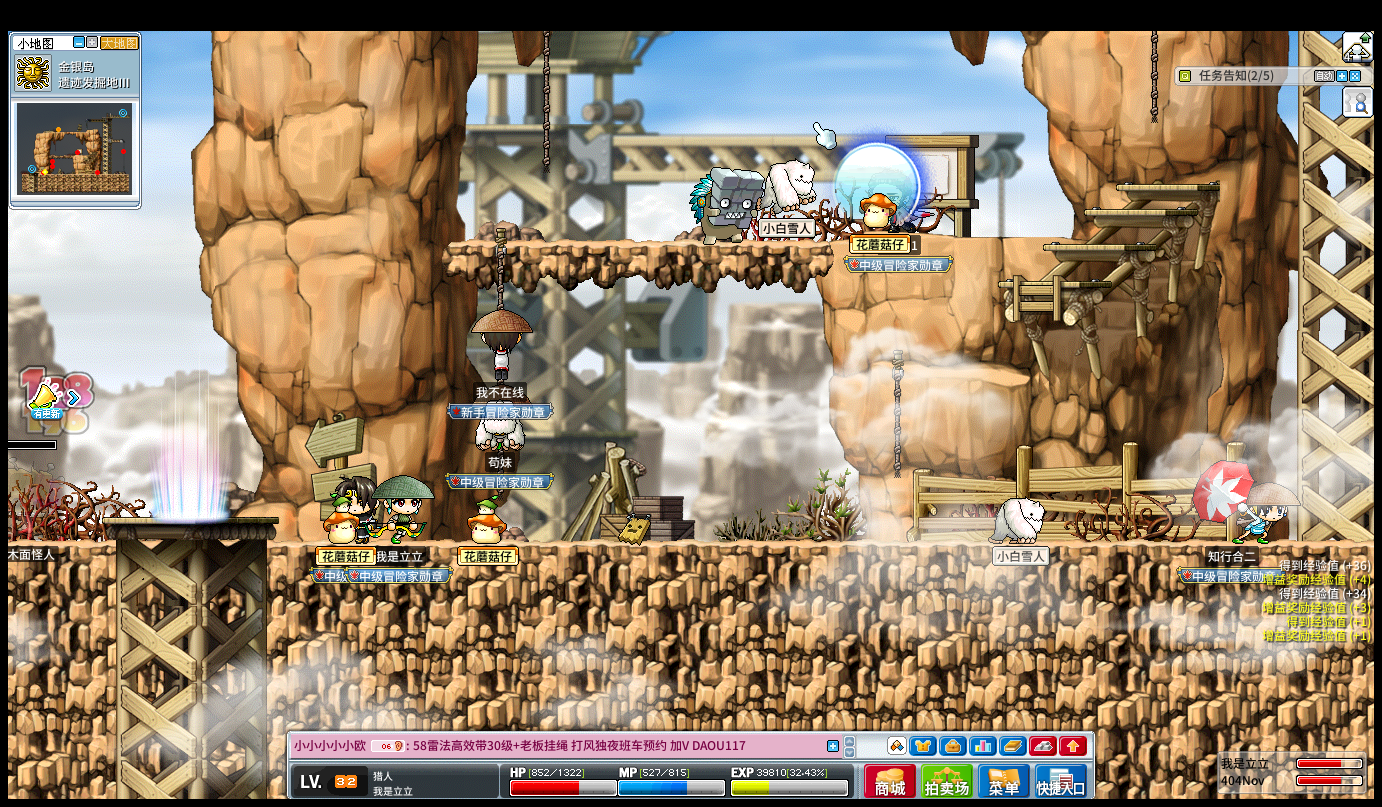floor: (267, 540, 1373, 550), (446, 239, 830, 251), (939, 232, 1085, 242), (8, 539, 116, 551), (102, 517, 279, 524), (1084, 208, 1198, 216), (998, 280, 1111, 287), (1116, 184, 1220, 191), (1043, 244, 1156, 250)
monster: (690, 167, 765, 245)
rope: (893, 350, 902, 479), (543, 31, 550, 174), (1149, 30, 1158, 123), (495, 228, 504, 309)
